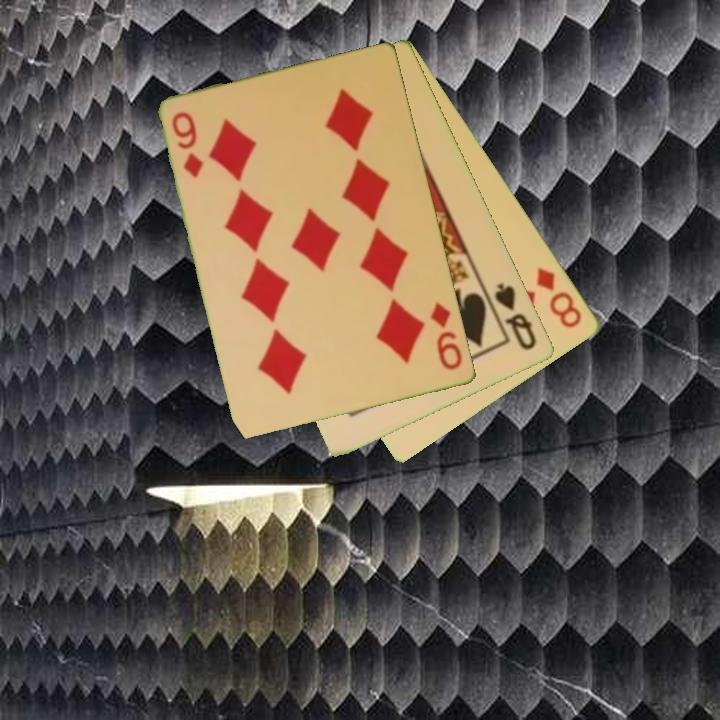8d: (533, 263, 586, 332)
9d: (427, 298, 466, 373), (169, 108, 207, 182)
Qs: (491, 279, 540, 354)
